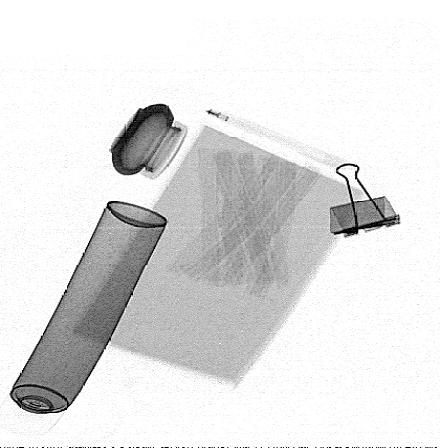Sprayer: (0, 201, 167, 435)
